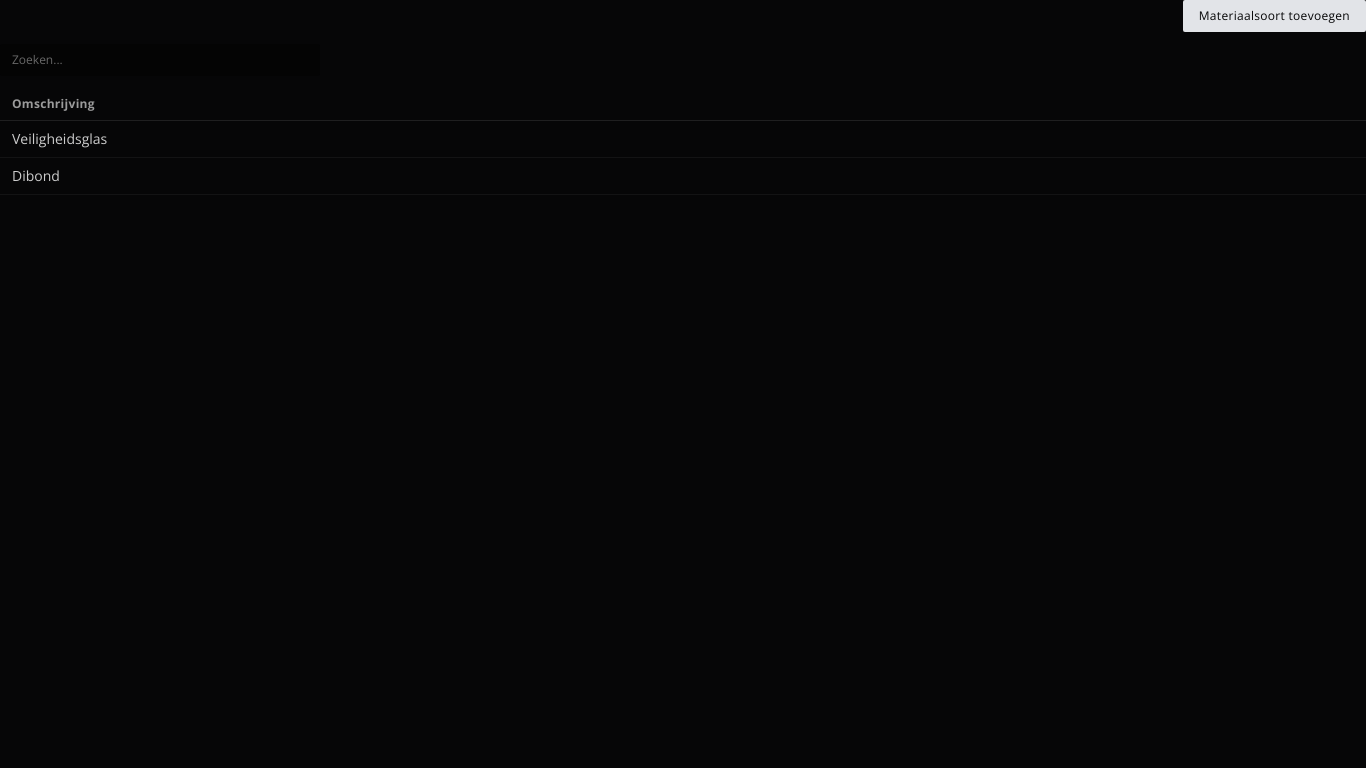
Test: MateriaalsoortenSection › blocks deleting a materiaalsoort that still has materialen referencing it
What coordinates should you click on to do the following:
click the row with test id "data-table-row-soort-1"
I would click on:
 (683, 139)
Its box is [0, 120, 1365, 158].
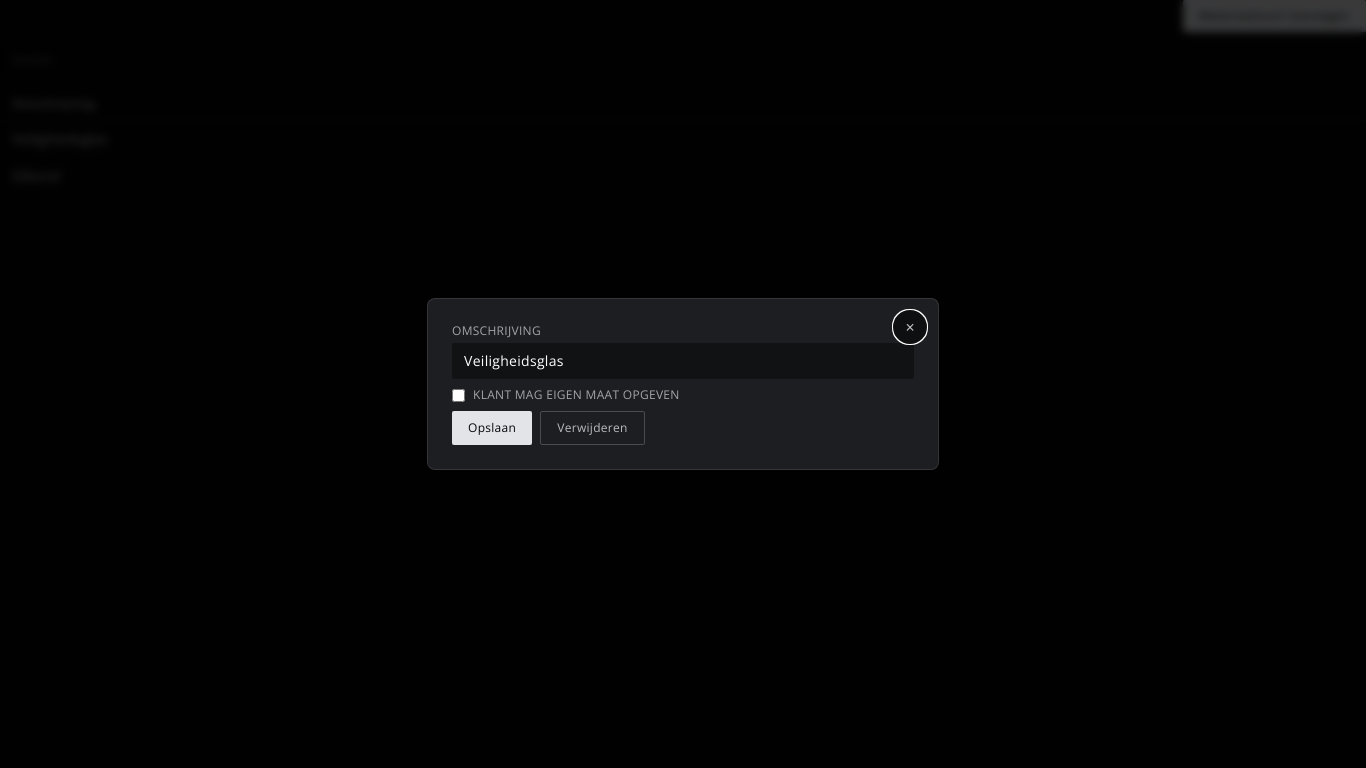
What coordinates should you click on to do the following:
click the button with test id "materiaalsoort-modal-verwijderen"
I would click on:
 (592, 428)
Its box is [540, 411, 645, 445].
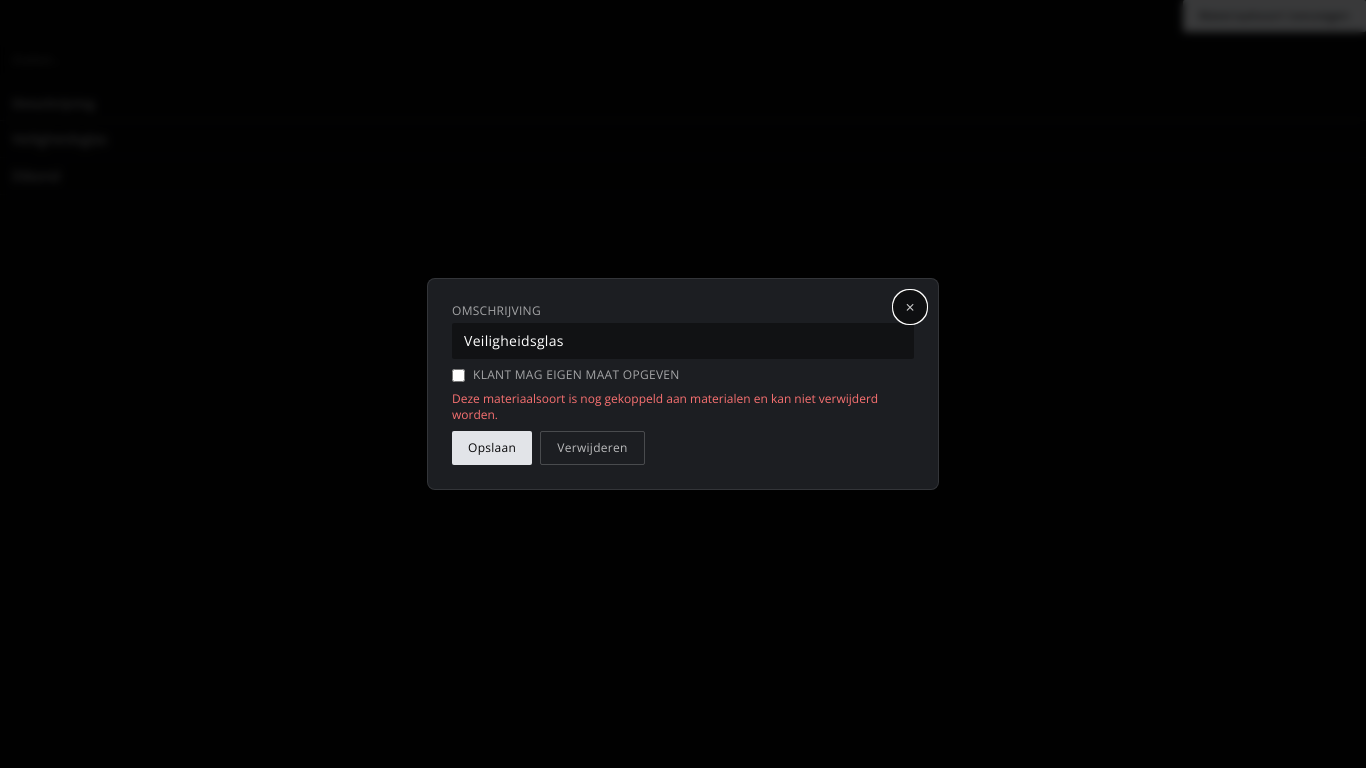
Now the text with test id "materiaalsoort-modal-error" shows "Deze materiaalsoort is nog gekoppeld aan materialen en kan niet verwijderd worden.", box [452, 390, 878, 423]
